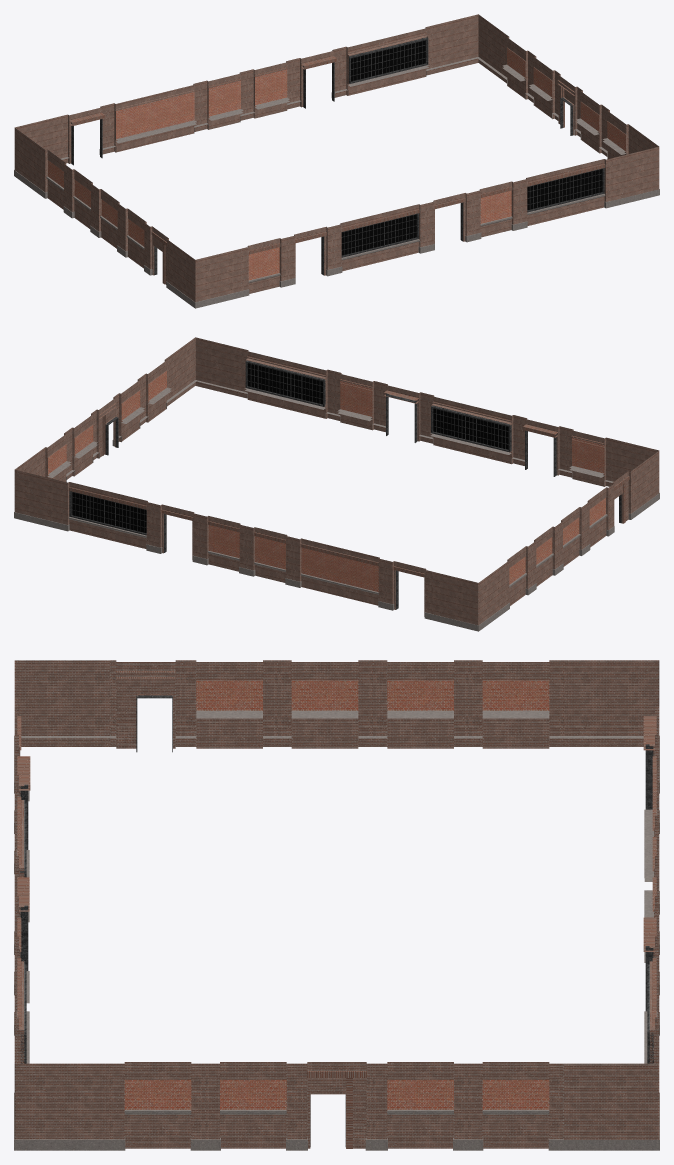
Rendered from BuildingA_Bottom_Shell_VarB.fbx.
The picture shows the model from 3 angles, top to bottom: view 1: azimuth 30°, elevation 25°; view 2: azimuth 150°, elevation 25°; view 3: azimuth 270°, elevation 25°; orthographic projection. The views are drawn at different scales.
Parts seen in each view (by area): view 1: BuildingA_Bottom_Shell_VarB; view 2: BuildingA_Bottom_Shell_VarB; view 3: BuildingA_Bottom_Shell_VarB.
Part boxes in pixels (left/top/right/bottom): BuildingA_Bottom_Shell_VarB: left=14, top=14, right=659, bottom=308; BuildingA_Bottom_Shell_VarB: left=14, top=337, right=659, bottom=631; BuildingA_Bottom_Shell_VarB: left=14, top=660, right=659, bottom=1150.
Bounding box in the file's own units: 4007 × 400 × 2707.
